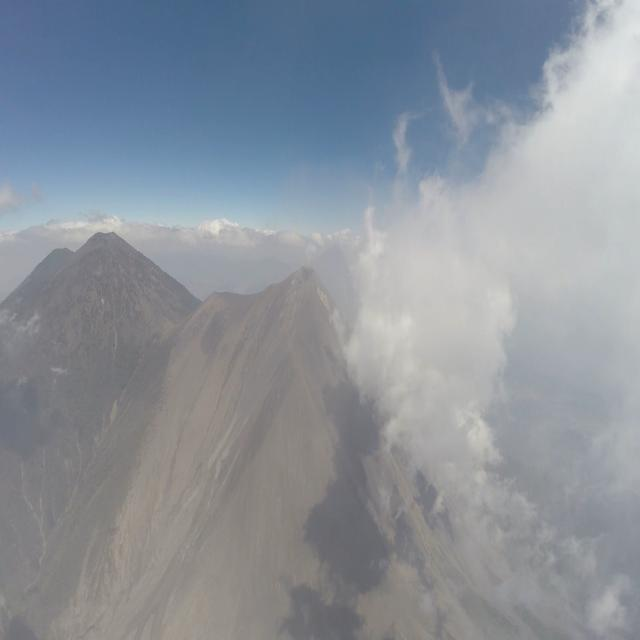Summit: (283, 261, 326, 289)
